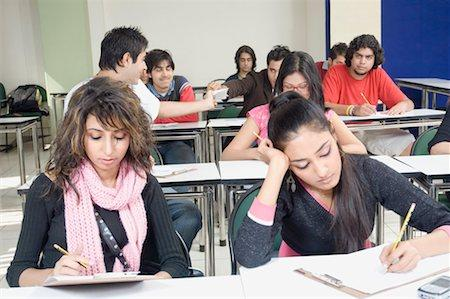chit: (200, 71, 237, 115)
student: (239, 97, 450, 292), (45, 79, 201, 290), (330, 25, 421, 119), (146, 43, 194, 119)
studentcopying: (80, 16, 232, 123), (205, 37, 297, 105)
